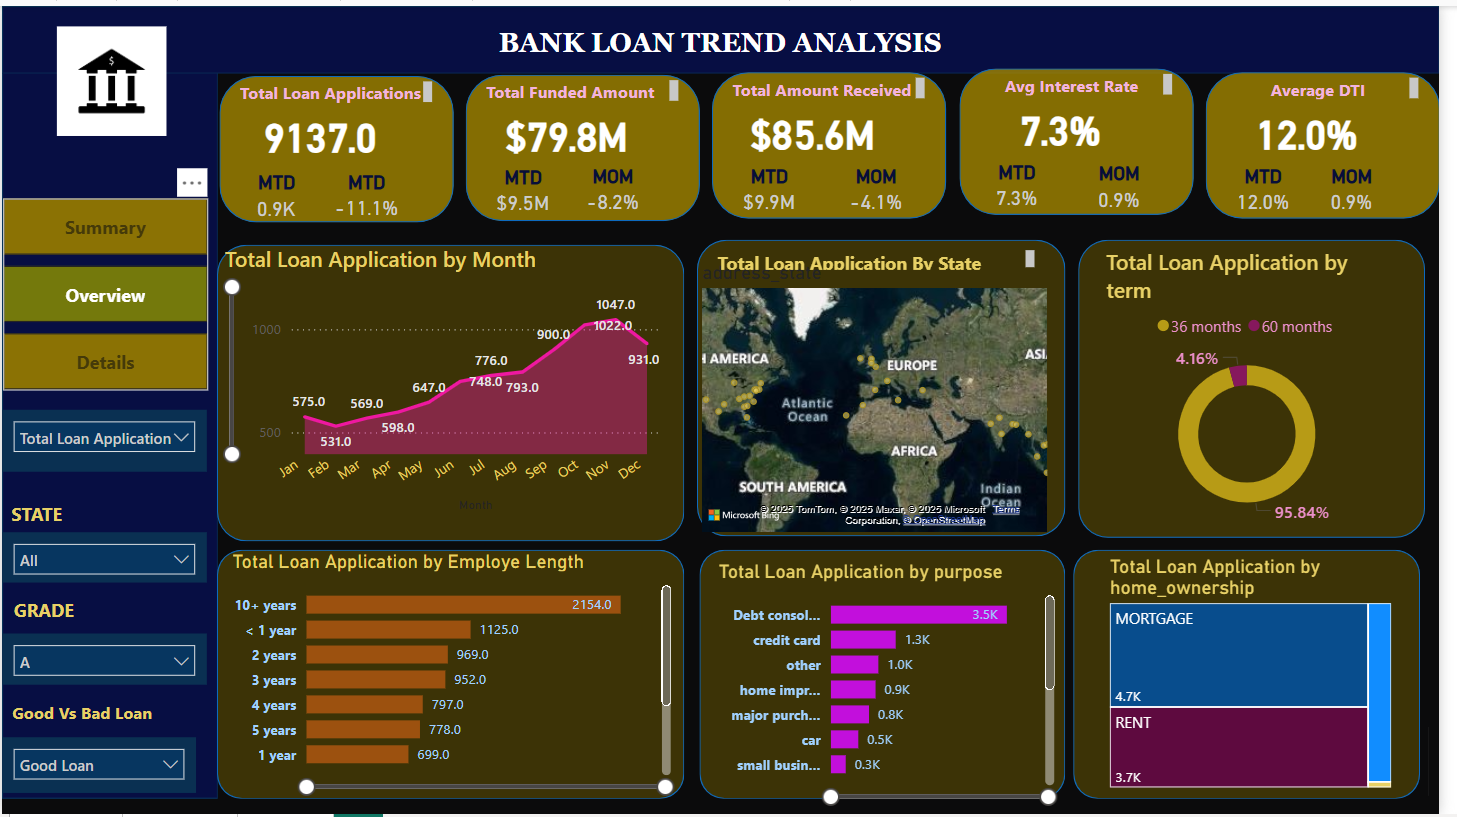

Layout of this report page (visuals, bound fields, positions):
{"tool":"powerbi","page":{"name":"Overview","canvas":[1280,720],"ordinal":1},"visuals":[{"type":"shape","box":[0,46.7,192.4,659.2],"z":0},{"type":"shape","box":[852.2,56,208.6,130.4],"z":0,"group":"g4"},{"type":"shape","box":[632.5,58.8,208.6,130.4],"z":0,"group":"g3"},{"type":"shape","box":[1071.5,58.8,208.6,130.4],"z":0,"group":"g5"},{"type":"shape","box":[412.9,61.6,208.6,130.4],"z":0,"group":"g2"},{"type":"shape","box":[193.8,62.2,208.6,130.4],"z":0,"group":"g1"},{"type":"shape","box":[0,0,1280.3,60.4],"z":1000},{"type":"card","fields":{"Values":["Bank_loan_data.Avg Interest Rate"]},"box":[864.5,84.8,155.1,48],"z":1000,"group":"g4"},{"type":"card","fields":{"Values":["Bank_loan_data.Total Amount Received"]},"box":[644.8,87.6,155.1,48],"z":1000,"group":"g3"},{"type":"card","fields":{"Values":["Bank_loan_data.Avg DTI"]},"box":[1083.8,87.6,155.1,48],"z":1000,"group":"g5"},{"type":"card","fields":{"Values":["Bank_loan_data.Total Funded Amount"]},"box":[425.2,90.4,155.1,48],"z":1000,"group":"g2"},{"type":"card","fields":{"Values":["Bank_loan_data.Total Loan Application"]},"box":[206.1,91,155.1,48],"z":1000,"group":"g1"},{"type":"textbox","box":[865.9,56,181.1,28.8],"z":2000,"group":"g4"},{"type":"textbox","box":[646.2,58.8,181.1,28.8],"z":2000,"group":"g3"},{"type":"textbox","box":[1085.2,58.8,181.1,28.8],"z":2000,"group":"g5"},{"type":"textbox","box":[426.6,61.6,181.1,28.8],"z":2000,"group":"g2"},{"type":"textbox","box":[207.5,62.2,181.1,28.8],"z":2000,"group":"g1"},{"type":"shape","box":[191.8,212.3,416.2,264.2],"z":2000},{"type":"textbox","box":[400.7,13.7,477.5,46.7],"z":3000},{"type":"card","title":"MTD","fields":{"Values":["Bank_loan_data.MTD Avg Interest Rate"]},"box":[865.9,138.3,75.5,48],"z":3000,"group":"g4"},{"type":"card","title":"MTD","fields":{"Values":["Bank_loan_data.MTD Total Amount Received"]},"box":[646.2,141.1,75.5,48],"z":3000,"group":"g3"},{"type":"card","title":"MTD","fields":{"Values":["Bank_loan_data.MTD Avg DTI"]},"box":[1085.2,141.1,75.5,48],"z":3000,"group":"g5"},{"type":"card","title":"MTD","fields":{"Values":["Bank_loan_data.MTD Loan Application"]},"box":[207.4,147.2,75,45.3],"z":3000,"group":"g1"},{"type":"group","id":"g1","title":"Group 1","box":[193.8,62.2,208,130.2],"z":4000},{"type":"card","title":"MTD","fields":{"Values":["Bank_loan_data.MOM Loan Application"]},"box":[287.2,147.1,75,48.1],"z":5000},{"type":"group","id":"g2","title":"Group 1","box":[412.9,61.6,208.6,130.4],"z":6000},{"type":"group","id":"g3","title":"Group 1","box":[632.5,58.8,208.6,130.4],"z":7000},{"type":"group","id":"g4","title":"Group 1","box":[852.2,56,208.5,130.1],"z":8000},{"type":"group","id":"g5","title":"Group 1","box":[1071.5,58.8,208.5,130.1],"z":9000},{"type":"card","title":"MTD","fields":{"Values":["Bank_loan_data.MTD Funded Amount"]},"box":[426.8,142.7,75.6,47.6],"z":10000},{"type":"card","title":"MOM","fields":{"Values":["Bank_loan_data.MOM funnded Amount"]},"box":[506.5,141.5,75,48.1],"z":11000},{"type":"card","title":"MOM","fields":{"Values":["Bank_loan_data.MOM Amount Received"]},"box":[739.9,141.5,76.4,48.1],"z":12000},{"type":"card","title":"MOM","fields":{"Values":["Bank_loan_data.MOM Avg Interest Rate"]},"box":[957.7,138.6,75,48.1],"z":13000},{"type":"card","title":"MOM","fields":{"Values":["Bank_loan_data.MOM Avg DTI"]},"box":[1164.3,141.5,75,48.1],"z":14000},{"type":"slicer","fields":{"Values":["Bank_loan_data.address_state"]},"box":[0,468.1,182.2,44.6],"z":15000},{"type":"textbox","box":[6,522.4,82,36.2],"z":16000},{"type":"slicer","fields":{"Values":["Bank_loan_data.grade"]},"box":[0,558.6,182.2,45.8],"z":17000},{"type":"textbox","box":[3.6,436.7,83.2,37.4],"z":18000},{"type":"slicer","fields":{"Values":["Bank_loan_data.Good vs Bad Loan"]},"box":[0,651.5,172.5,49.5],"z":19000},{"type":"textbox","box":[0,614.1,200.3,37.4],"z":20000},{"type":"areaChart","fields":{"Y":["Bank_loan_data.Total Loan Application"],"Category":["Data Table.Month"]},"box":[194.2,212.3,396.9,242.5],"z":21000},{"type":"slicer","fields":{"Values":["Select Measure.Select Measure"]},"box":[0,359.5,182.2,55.5],"z":22000},{"type":"shape","box":[618.9,208.7,328.2,264.2],"z":23000},{"type":"map","fields":{"Category":["Bank_loan_data.address_state"]},"box":[618.9,226.8,317.3,246.1],"z":24000},{"type":"shape","box":[957.9,208.7,308.8,265.4],"z":25000},{"type":"donutChart","fields":{"Y":["Bank_loan_data.Total Loan Application"],"Category":["Bank_loan_data.term"]},"box":[978.4,214.7,260.6,253.4],"z":26000},{"type":"textbox","box":[632.2,212.3,292,27.7],"z":27000},{"type":"shape","box":[191.8,483.8,416.2,222],"z":29000},{"type":"shape","box":[621.3,483.8,325.7,222],"z":30000},{"type":"barChart","fields":{"Y":["Bank_loan_data.Total Loan Application"],"Category":["Bank_loan_data.emp_length"]},"box":[200.3,483.8,400.5,222],"z":31000},{"type":"barChart","fields":{"Y":["Bank_loan_data.Total Loan Application"],"Category":["Bank_loan_data.purpose"]},"box":[633.4,493.4,308.8,222],"z":32000},{"type":"shape","box":[954.3,483.8,308.8,222],"z":33000},{"type":"treemap","fields":{"Values":["Bank_loan_data.Total Loan Application"],"Group":["Bank_loan_data.home_ownership"]},"box":[982,488.6,260.6,212.3],"z":34000},{"type":"pageNavigator","box":[1.2,171.3,182.2,171.3],"z":34001},{"type":"image","box":[39.8,13.3,114.6,107.4],"z":34002}]}

Visuals, with their boxes on the page's 1280x720 design canvas (x1, y1, x2, y2). These are canvas units, not pixel positions in the 1457x817 screenshot, which may show the page scaled, cropped or inside an application window:
shape: <region>0, 47, 192, 706</region>
shape: <region>852, 56, 1061, 186</region>
shape: <region>632, 59, 841, 189</region>
shape: <region>1072, 59, 1280, 189</region>
shape: <region>413, 62, 622, 192</region>
shape: <region>194, 62, 402, 193</region>
shape: <region>0, 0, 1280, 60</region>
card - Bank_loan_data.Avg Interest Rate: <region>864, 85, 1020, 133</region>
card - Bank_loan_data.Total Amount Received: <region>645, 88, 800, 136</region>
card - Bank_loan_data.Avg DTI: <region>1084, 88, 1239, 136</region>
card - Bank_loan_data.Total Funded Amount: <region>425, 90, 580, 138</region>
card - Bank_loan_data.Total Loan Application: <region>206, 91, 361, 139</region>
textbox: <region>866, 56, 1047, 85</region>
textbox: <region>646, 59, 827, 88</region>
textbox: <region>1085, 59, 1266, 88</region>
textbox: <region>427, 62, 608, 90</region>
textbox: <region>208, 62, 389, 91</region>
shape: <region>192, 212, 608, 476</region>
textbox: <region>401, 14, 878, 60</region>
"MTD" card: <region>866, 138, 941, 186</region>
"MTD" card: <region>646, 141, 722, 189</region>
"MTD" card: <region>1085, 141, 1161, 189</region>
"MTD" card: <region>207, 147, 282, 192</region>
"Group 1" group: <region>194, 62, 402, 192</region>
"MTD" card: <region>287, 147, 362, 195</region>
"Group 1" group: <region>413, 62, 622, 192</region>
"Group 1" group: <region>632, 59, 841, 189</region>
"Group 1" group: <region>852, 56, 1061, 186</region>
"Group 1" group: <region>1072, 59, 1280, 189</region>
"MTD" card: <region>427, 143, 502, 190</region>
"MOM" card: <region>506, 142, 582, 190</region>
"MOM" card: <region>740, 142, 816, 190</region>
"MOM" card: <region>958, 139, 1033, 187</region>
"MOM" card: <region>1164, 142, 1239, 190</region>
slicer - Bank_loan_data.address_state: <region>0, 468, 182, 513</region>
textbox: <region>6, 522, 88, 559</region>
slicer - Bank_loan_data.grade: <region>0, 559, 182, 604</region>
textbox: <region>4, 437, 87, 474</region>
slicer - Bank_loan_data.Good vs Bad Loan: <region>0, 652, 172, 701</region>
textbox: <region>0, 614, 200, 652</region>
areaChart - Bank_loan_data.Total Loan Application x Data Table.Month: <region>194, 212, 591, 455</region>
slicer - Select Measure.Select Measure: <region>0, 360, 182, 415</region>
shape: <region>619, 209, 947, 473</region>
map - Bank_loan_data.address_state: <region>619, 227, 936, 473</region>
shape: <region>958, 209, 1267, 474</region>
donutChart - Bank_loan_data.Total Loan Application x Bank_loan_data.term: <region>978, 215, 1239, 468</region>
textbox: <region>632, 212, 924, 240</region>
shape: <region>192, 484, 608, 706</region>
shape: <region>621, 484, 947, 706</region>
barChart - Bank_loan_data.Total Loan Application x Bank_loan_data.emp_length: <region>200, 484, 601, 706</region>
barChart - Bank_loan_data.Total Loan Application x Bank_loan_data.purpose: <region>633, 493, 942, 715</region>
shape: <region>954, 484, 1263, 706</region>
treemap - Bank_loan_data.Total Loan Application x Bank_loan_data.home_ownership: <region>982, 489, 1243, 701</region>
pageNavigator: <region>1, 171, 183, 343</region>
image: <region>40, 13, 154, 121</region>
